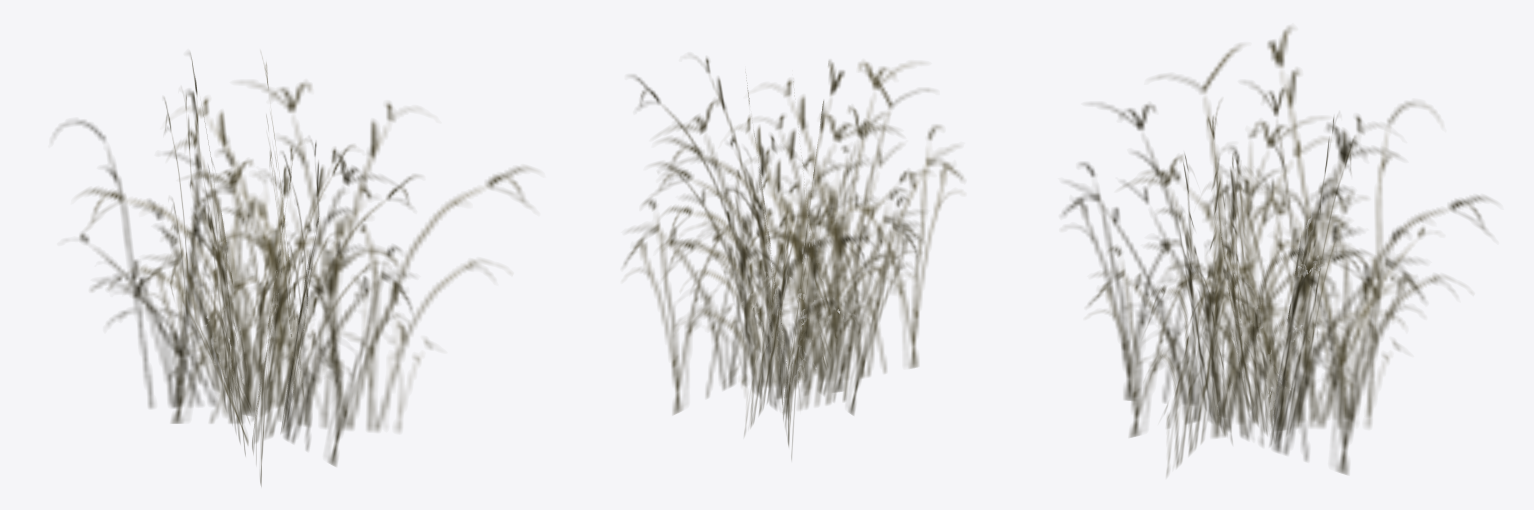
The model's file is ichu_10.glb.
3 views of the same model, side by side, from view 1: azimuth 30°, elevation 25°; view 2: azimuth 150°, elevation 25°; view 3: azimuth 270°, elevation 25° (orthographic). The views are drawn at different scales.
Parts seen in each view (by area): view 1: Ichu; view 2: Ichu; view 3: Ichu.
Part boxes in pixels (left/top/right/bottom): Ichu: left=54, top=53, right=533, bottom=486; Ichu: left=624, top=57, right=962, bottom=459; Ichu: left=1063, top=26, right=1492, bottom=475.
Size of the model in its own units: 0.4392 by 0.43 by 0.4651.
1 material, 1 textured.
